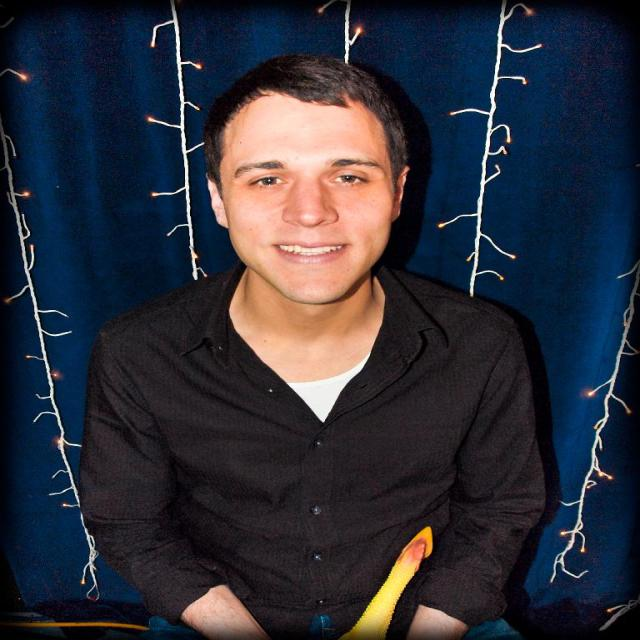no_helmet: (219, 51, 413, 316)
